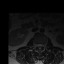CCS_normal: (39, 42, 40, 50)
LFS_normal: (42, 43, 44, 48)
LLS_normal: (40, 43, 42, 48)
RFS_normal: (35, 42, 37, 48)
RLS_normal: (37, 42, 39, 48)
